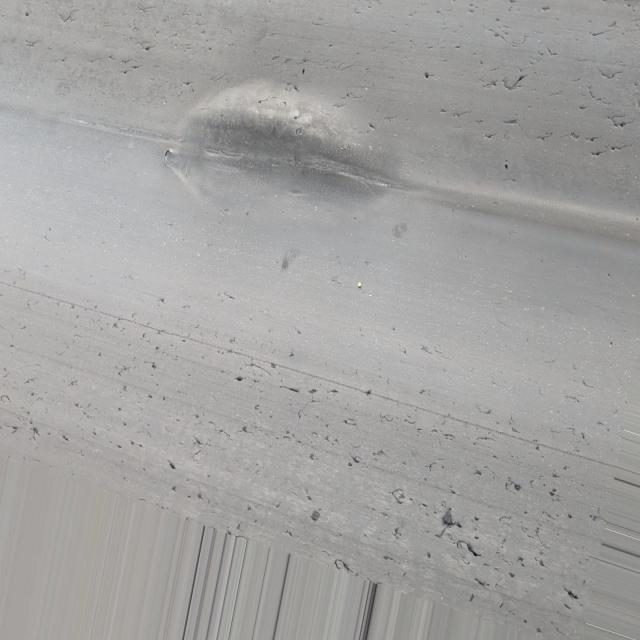impact damage: (169, 77, 407, 241)
